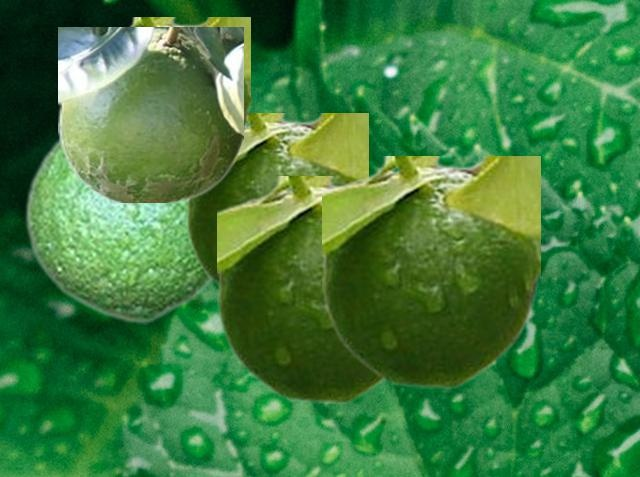dalandan: (322, 156, 539, 387), (217, 176, 383, 402), (23, 138, 214, 323), (58, 27, 242, 201), (186, 113, 367, 287), (126, 17, 249, 144)
